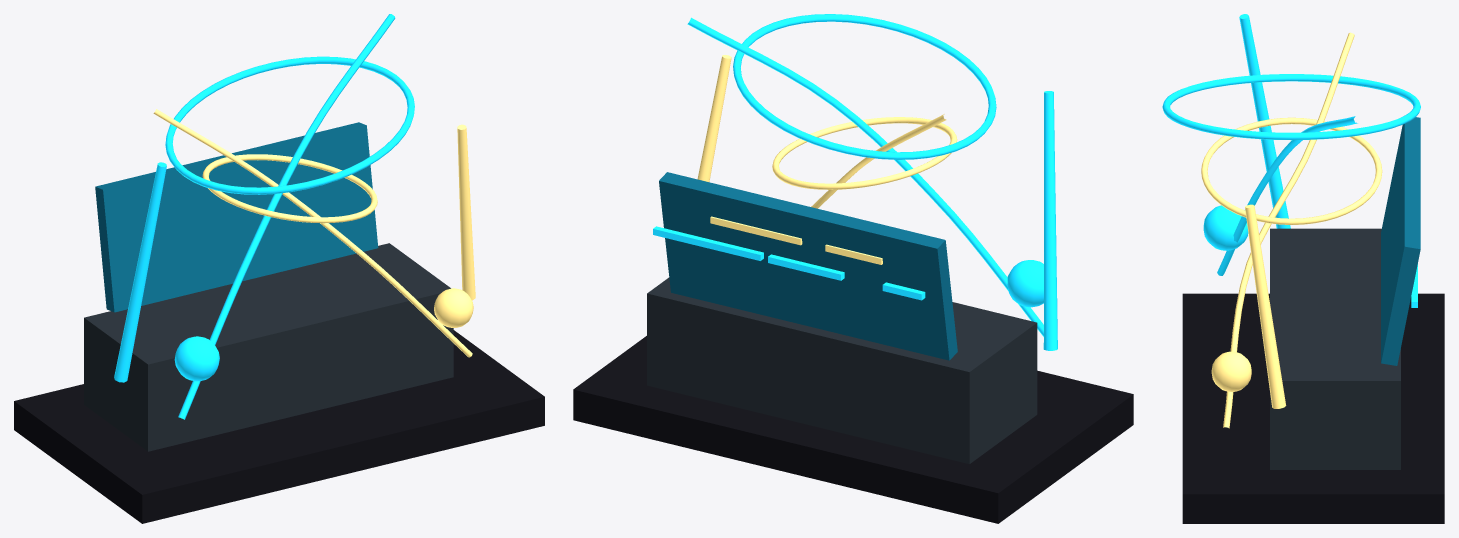
File: observability-trace-station.glb
3 views of the same model, side by side, from view 1: azimuth 30°, elevation 25°; view 2: azimuth 150°, elevation 25°; view 3: azimuth 270°, elevation 25° (orthographic). The views are drawn at different scales.
Parts seen in each view (by area): view 1: trace-console-base, trace-station-pad, trace-console-screen, station-scan-ring, station-trace-beam-a, trace-station-antenna-left, station-trace-beam-b, station-alert-ring, trace-station-antenna-right, station-router-node-a, station-router-node-b; view 2: trace-console-base, trace-station-pad, trace-console-screen, station-scan-ring, station-trace-beam-a, trace-station-antenna-left, station-alert-ring, station-router-node-a, trace-station-antenna-right, trace-line-4, station-trace-beam-b, trace-line-2 (+1 smaller); view 3: trace-station-pad, trace-console-base, trace-console-screen, station-scan-ring, station-alert-ring, trace-station-antenna-right, station-trace-beam-b, trace-station-antenna-left, station-trace-beam-a, station-router-node-a, station-router-node-b.
Boxes of the visible parts, left/top/right/bottom form: trace-console-base: left=84, top=243, right=453, bottom=451; trace-station-pad: left=14, top=330, right=544, bottom=523; trace-console-screen: left=95, top=122, right=378, bottom=312; station-scan-ring: left=165, top=56, right=414, bottom=194; station-trace-beam-a: left=178, top=14, right=395, bottom=419; trace-station-antenna-left: left=114, top=162, right=166, bottom=382; station-trace-beam-b: left=153, top=109, right=472, bottom=357; station-alert-ring: left=202, top=154, right=377, bottom=223; trace-station-antenna-right: left=457, top=124, right=475, bottom=300; station-router-node-a: left=174, top=336, right=219, bottom=381; station-router-node-b: left=434, top=288, right=473, bottom=327; trace-console-base: left=647, top=277, right=1037, bottom=463; trace-station-pad: left=573, top=336, right=1133, bottom=523; trace-console-screen: left=659, top=172, right=957, bottom=360; station-scan-ring: left=733, top=14, right=996, bottom=159; station-trace-beam-a: left=687, top=17, right=1043, bottom=336; trace-station-antenna-left: left=1043, top=91, right=1057, bottom=350; station-alert-ring: left=772, top=117, right=957, bottom=189; station-router-node-a: left=1007, top=260, right=1043, bottom=307; trace-station-antenna-right: left=697, top=55, right=731, bottom=181; trace-line-4: left=653, top=226, right=763, bottom=260; station-trace-beam-b: left=811, top=114, right=946, bottom=208; trace-line-2: left=768, top=254, right=844, bottom=280; trace-station-pad: left=1182, top=293, right=1444, bottom=523; trace-console-base: left=1270, top=228, right=1400, bottom=469; trace-console-screen: left=1381, top=117, right=1420, bottom=365; station-scan-ring: left=1162, top=74, right=1420, bottom=140; station-alert-ring: left=1201, top=117, right=1382, bottom=224; trace-station-antenna-right: left=1245, top=204, right=1286, bottom=408; station-trace-beam-b: left=1223, top=32, right=1354, bottom=428; trace-station-antenna-left: left=1239, top=14, right=1290, bottom=228; station-trace-beam-a: left=1217, top=116, right=1357, bottom=275; station-router-node-a: left=1203, top=205, right=1248, bottom=250; station-router-node-b: left=1211, top=351, right=1251, bottom=391.
Size of the model in its own units: 1.74 by 1.51 by 1.03.
